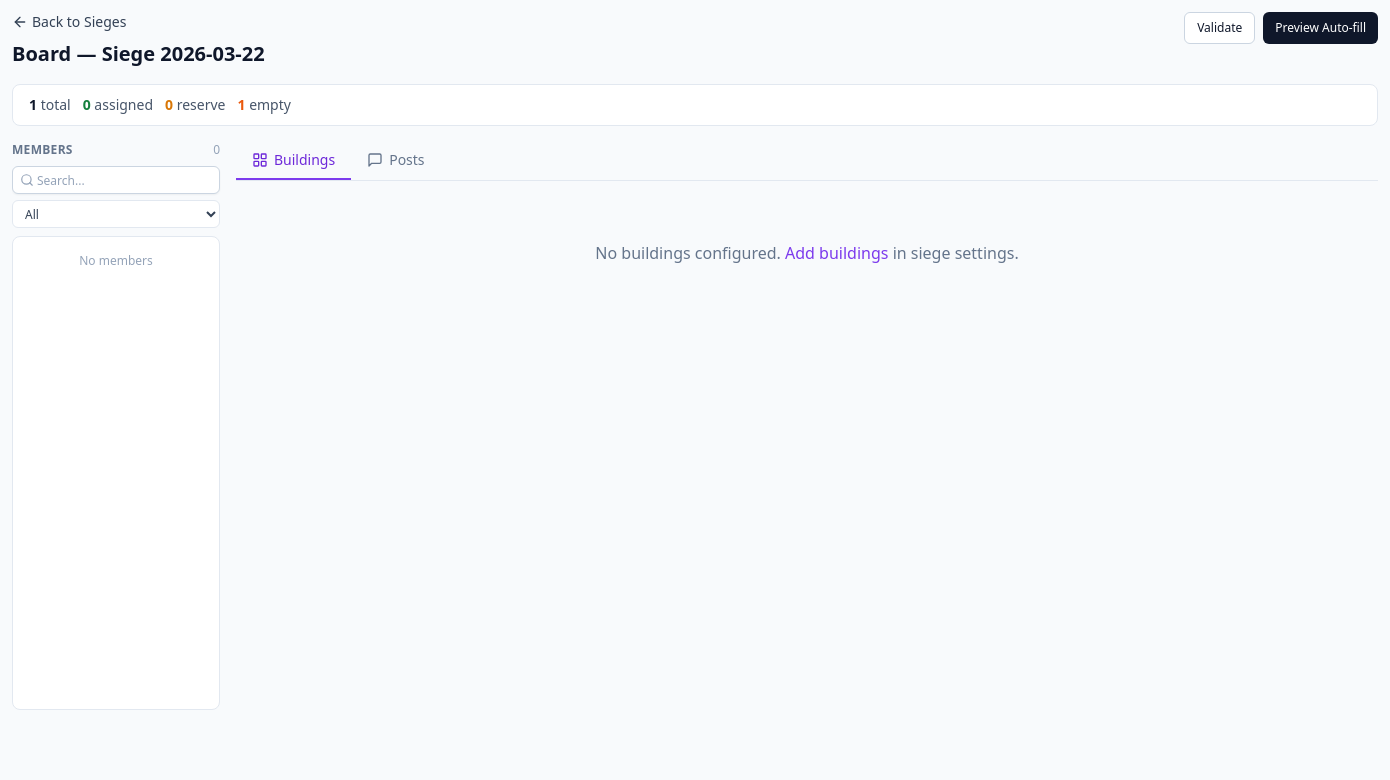
Test case: PostsTab — Suggest Assignments toolbar › shows Suggest Assignments button in toolbar
Step 1. Click the button "Posts" → (396, 161), box [351,142,441,180]
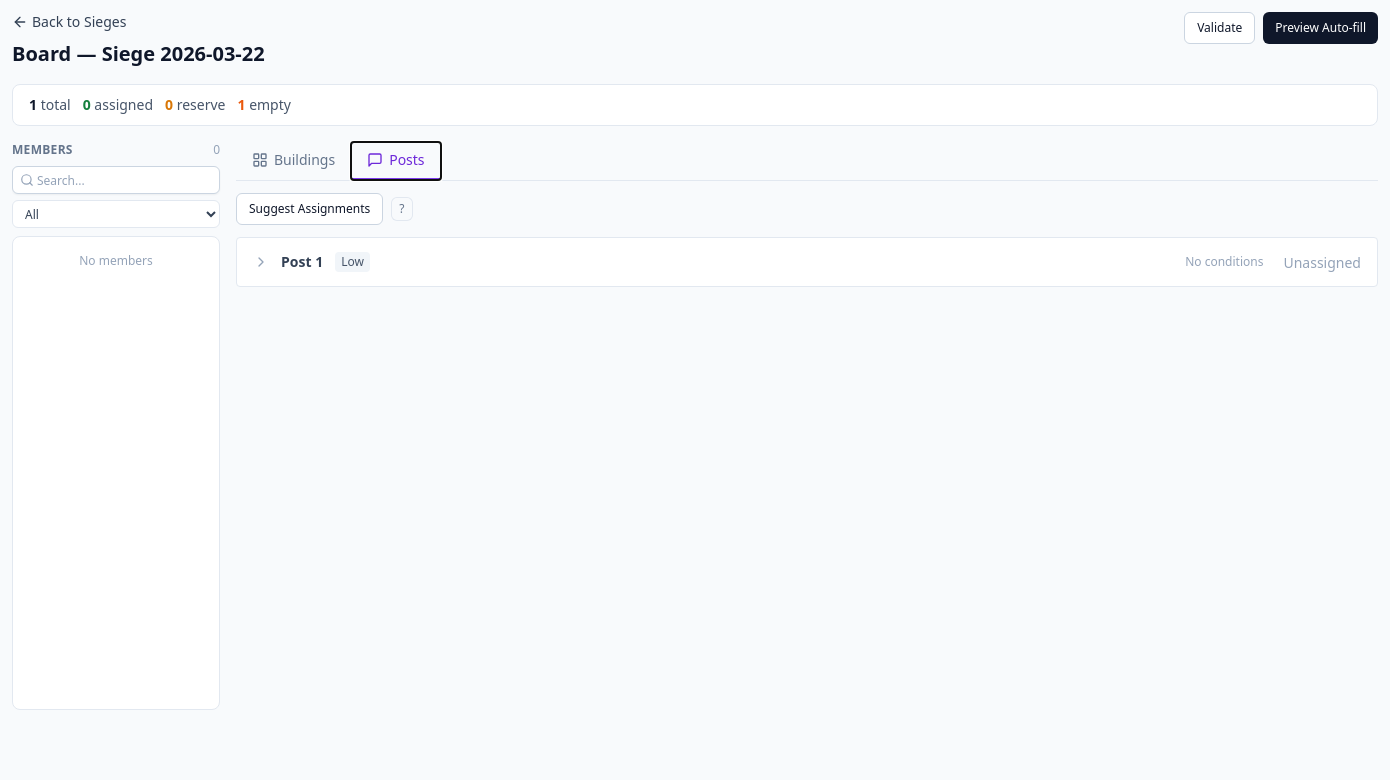
Expected: the button "Suggest Assignments" is shown, [236,193,383,225]
